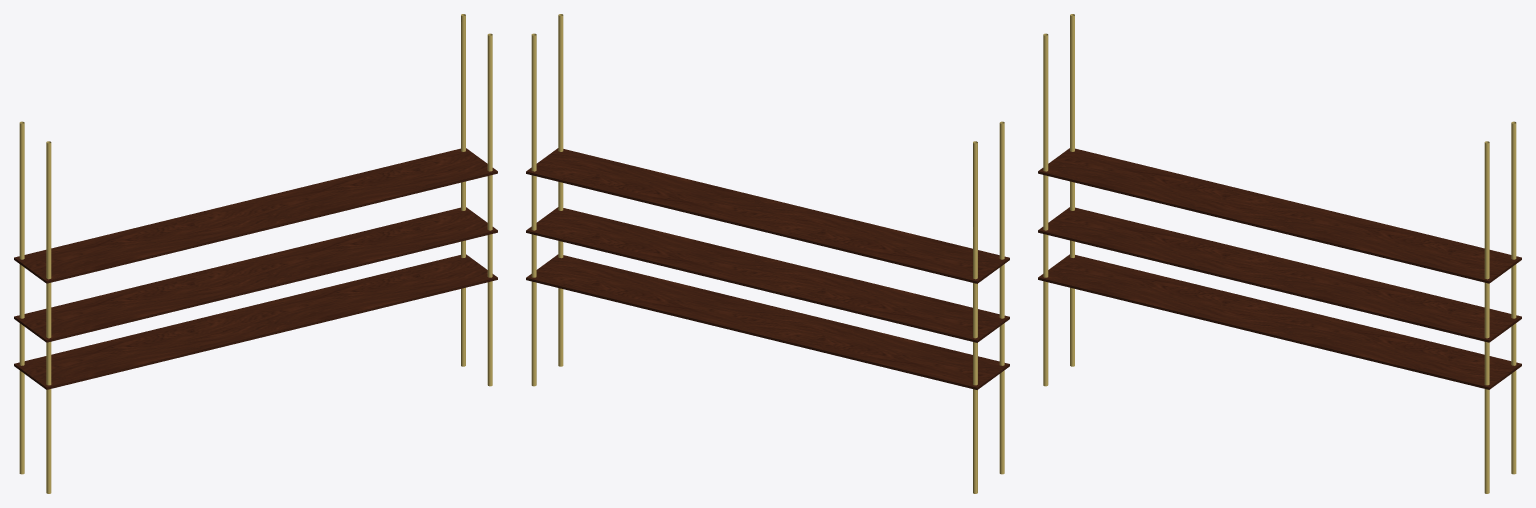
Rendered from bar-shelves.fbx.
3 renders of one model, left to right at view 1: azimuth 30°, elevation 25°; view 2: azimuth 150°, elevation 25°; view 3: azimuth 330°, elevation 25°, orthographic.
Visible parts, largest first — view 1: bar-shelf, bar-shelf.002, bar-shelf.001, bar-shelf_brass; view 2: bar-shelf, bar-shelf.001, bar-shelf.002, bar-shelf_brass; view 3: bar-shelf, bar-shelf.002, bar-shelf.001, bar-shelf_brass.
Boxes of the visible parts, <box> form: bar-shelf: <box>14,254,497,389</box>; bar-shelf.002: <box>14,148,497,283</box>; bar-shelf.001: <box>14,207,497,342</box>; bar-shelf_brass: <box>19,14,492,493</box>; bar-shelf: <box>526,254,1009,389</box>; bar-shelf.001: <box>526,207,1009,342</box>; bar-shelf.002: <box>526,148,1009,283</box>; bar-shelf_brass: <box>531,14,1004,493</box>; bar-shelf: <box>1038,254,1521,389</box>; bar-shelf.002: <box>1038,148,1521,283</box>; bar-shelf.001: <box>1038,207,1521,342</box>; bar-shelf_brass: <box>1043,14,1516,493</box>.
Size of the model in its own units: 4 by 2.97 by 0.5.
